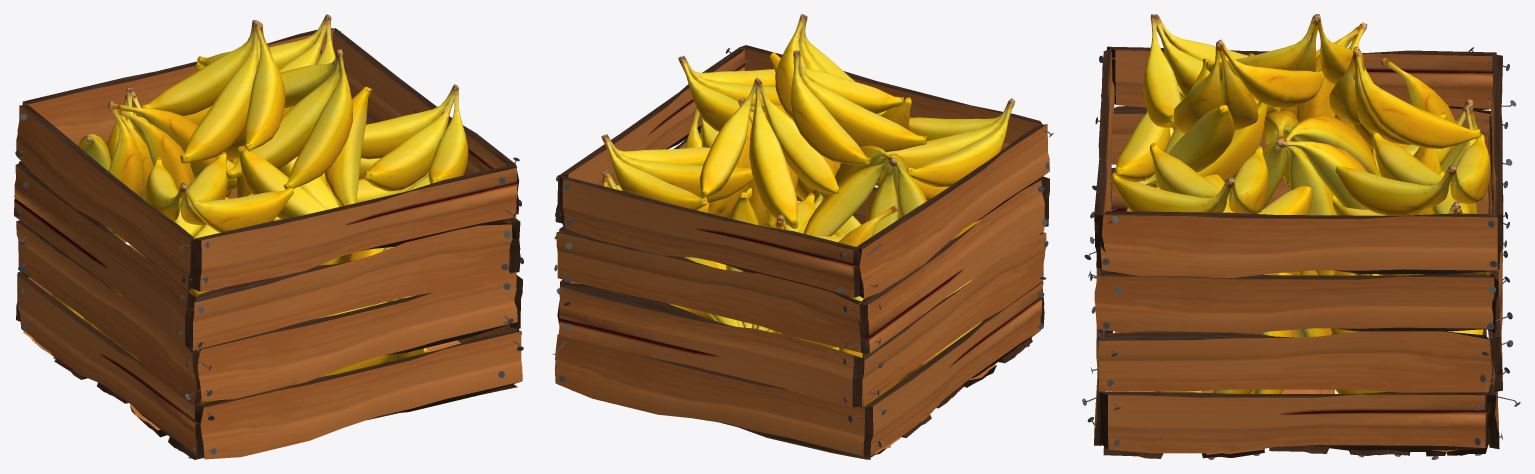
File: VC_banana_crate.fbx
The picture shows the model from 3 angles, left to right: view 1: azimuth 30°, elevation 25°; view 2: azimuth 150°, elevation 25°; view 3: azimuth 270°, elevation 25°; orthographic projection. The views are drawn at different scales.
Visible parts, largest first — view 1: pCube42; view 2: pCube42; view 3: pCube42.
Boxes of the visible parts, x1=… form: pCube42: x1=14, y1=14, x2=523, y2=459; pCube42: x1=552, y1=14, x2=1053, y2=459; pCube42: x1=1082, y1=14, x2=1520, y2=459.
Bounding box in the file's own units: 6.48 × 6.17 × 6.69.
3 materials, 2 textured.
